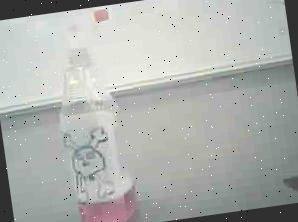hazard: (25, 2, 154, 222)
